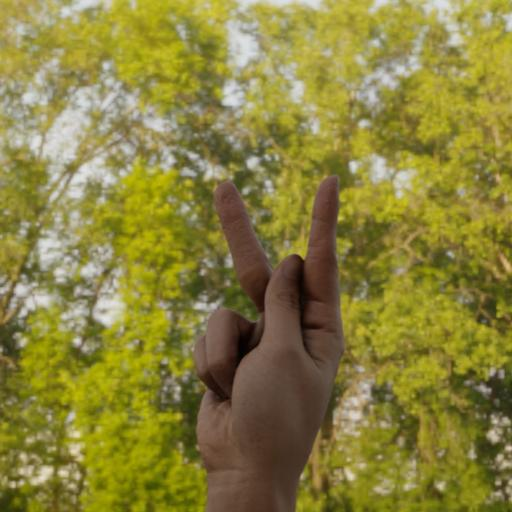K: (184, 172, 350, 476)
